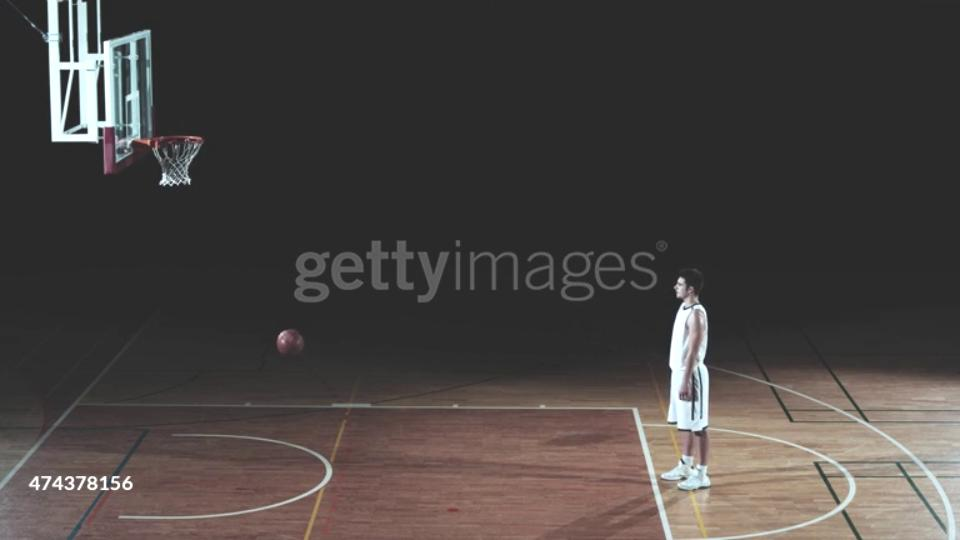hoop: (149, 133, 205, 154)
